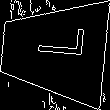L_W: (24, 33, 83, 69)
